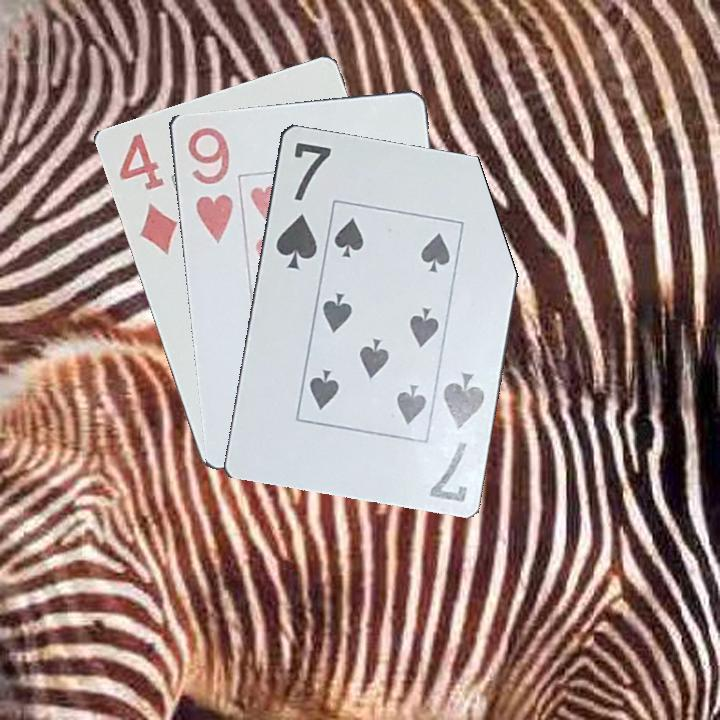4d: (114, 129, 181, 258)
7s: (425, 368, 487, 506), (272, 138, 334, 272)
9h: (183, 123, 236, 248)
